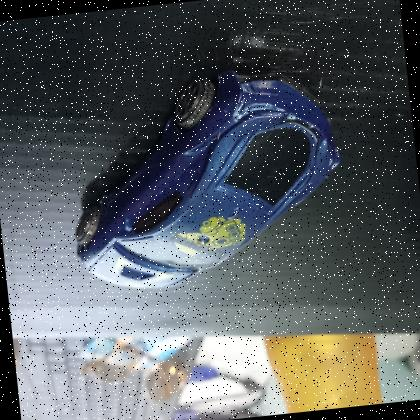Car: (56, 55, 359, 303)
